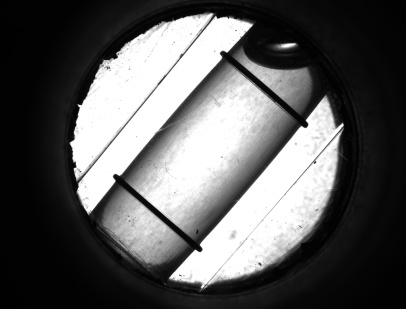line: (124, 191, 190, 231), (243, 79, 298, 108)
